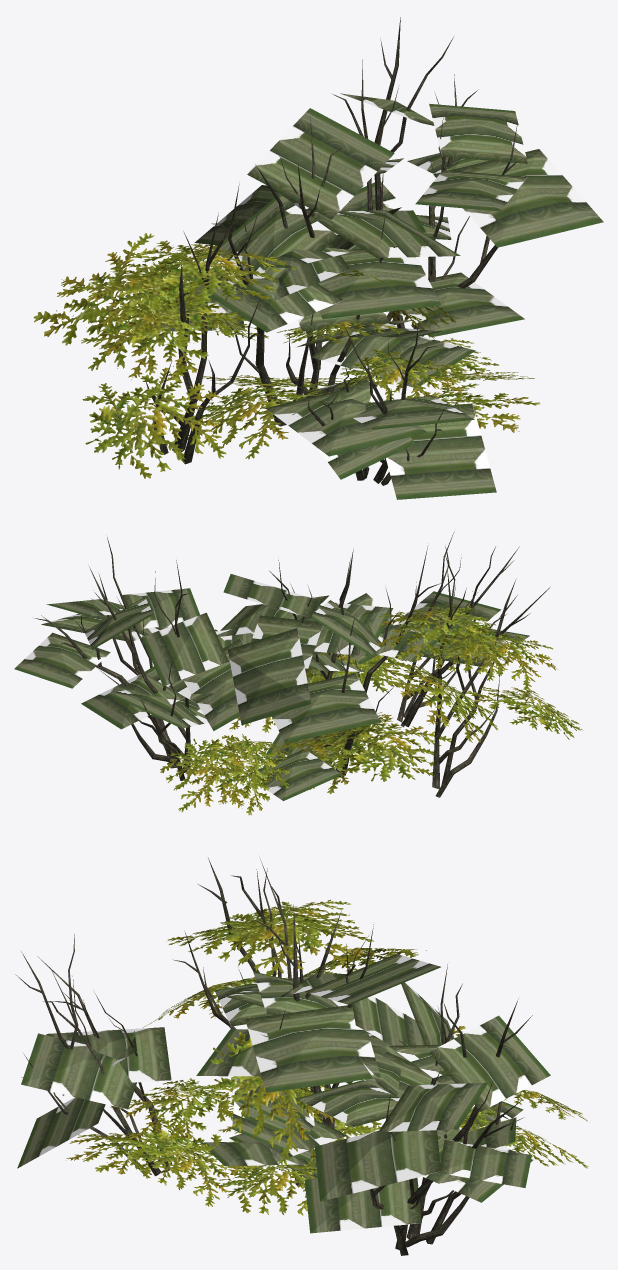
Rendered from S_Tree_Green019.FBX.
3 renders of one model, top to bottom at view 1: azimuth 30°, elevation 25°; view 2: azimuth 150°, elevation 25°; view 3: azimuth 270°, elevation 25°, orthographic. The views are drawn at different scales.
Visible parts, largest first — view 1: S_Tree_Green019; view 2: S_Tree_Green019; view 3: S_Tree_Green019.
Part boxes in pixels (<box>): S_Tree_Green019: <box>33,17,603,499</box>; S_Tree_Green019: <box>14,531,582,815</box>; S_Tree_Green019: <box>15,858,588,1255</box>.
Bounding box in the file's own units: 755 × 688 × 370.
